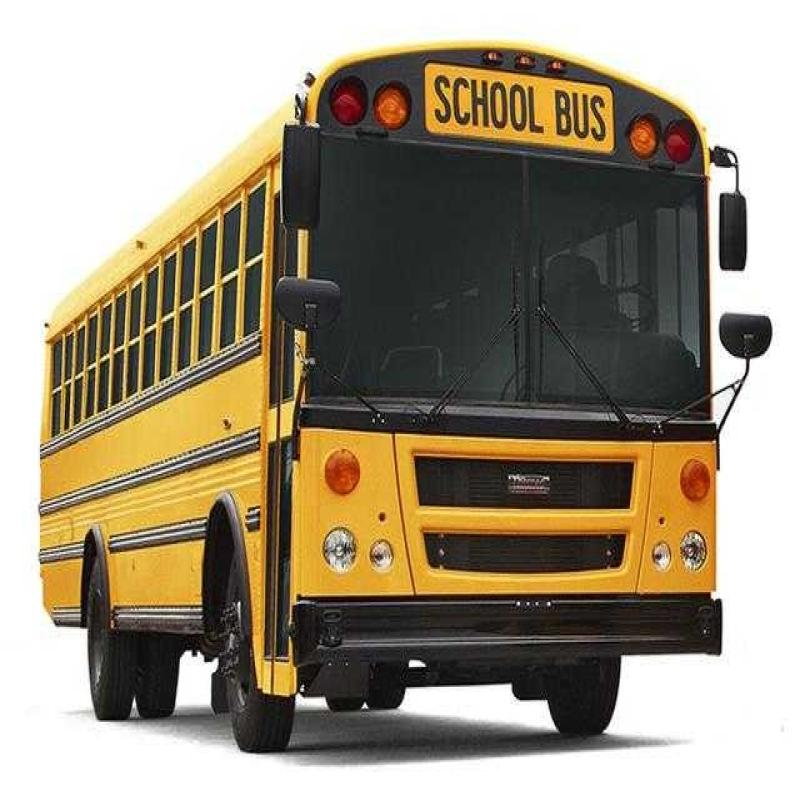bus: (42, 47, 738, 794)
